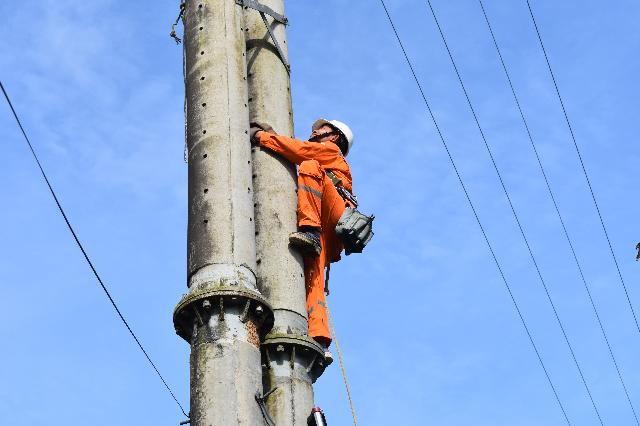gloves: (243, 121, 270, 146)
harness: (324, 166, 365, 213)
helmet: (305, 108, 359, 158)
shoes: (286, 214, 325, 258), (318, 335, 338, 366)
